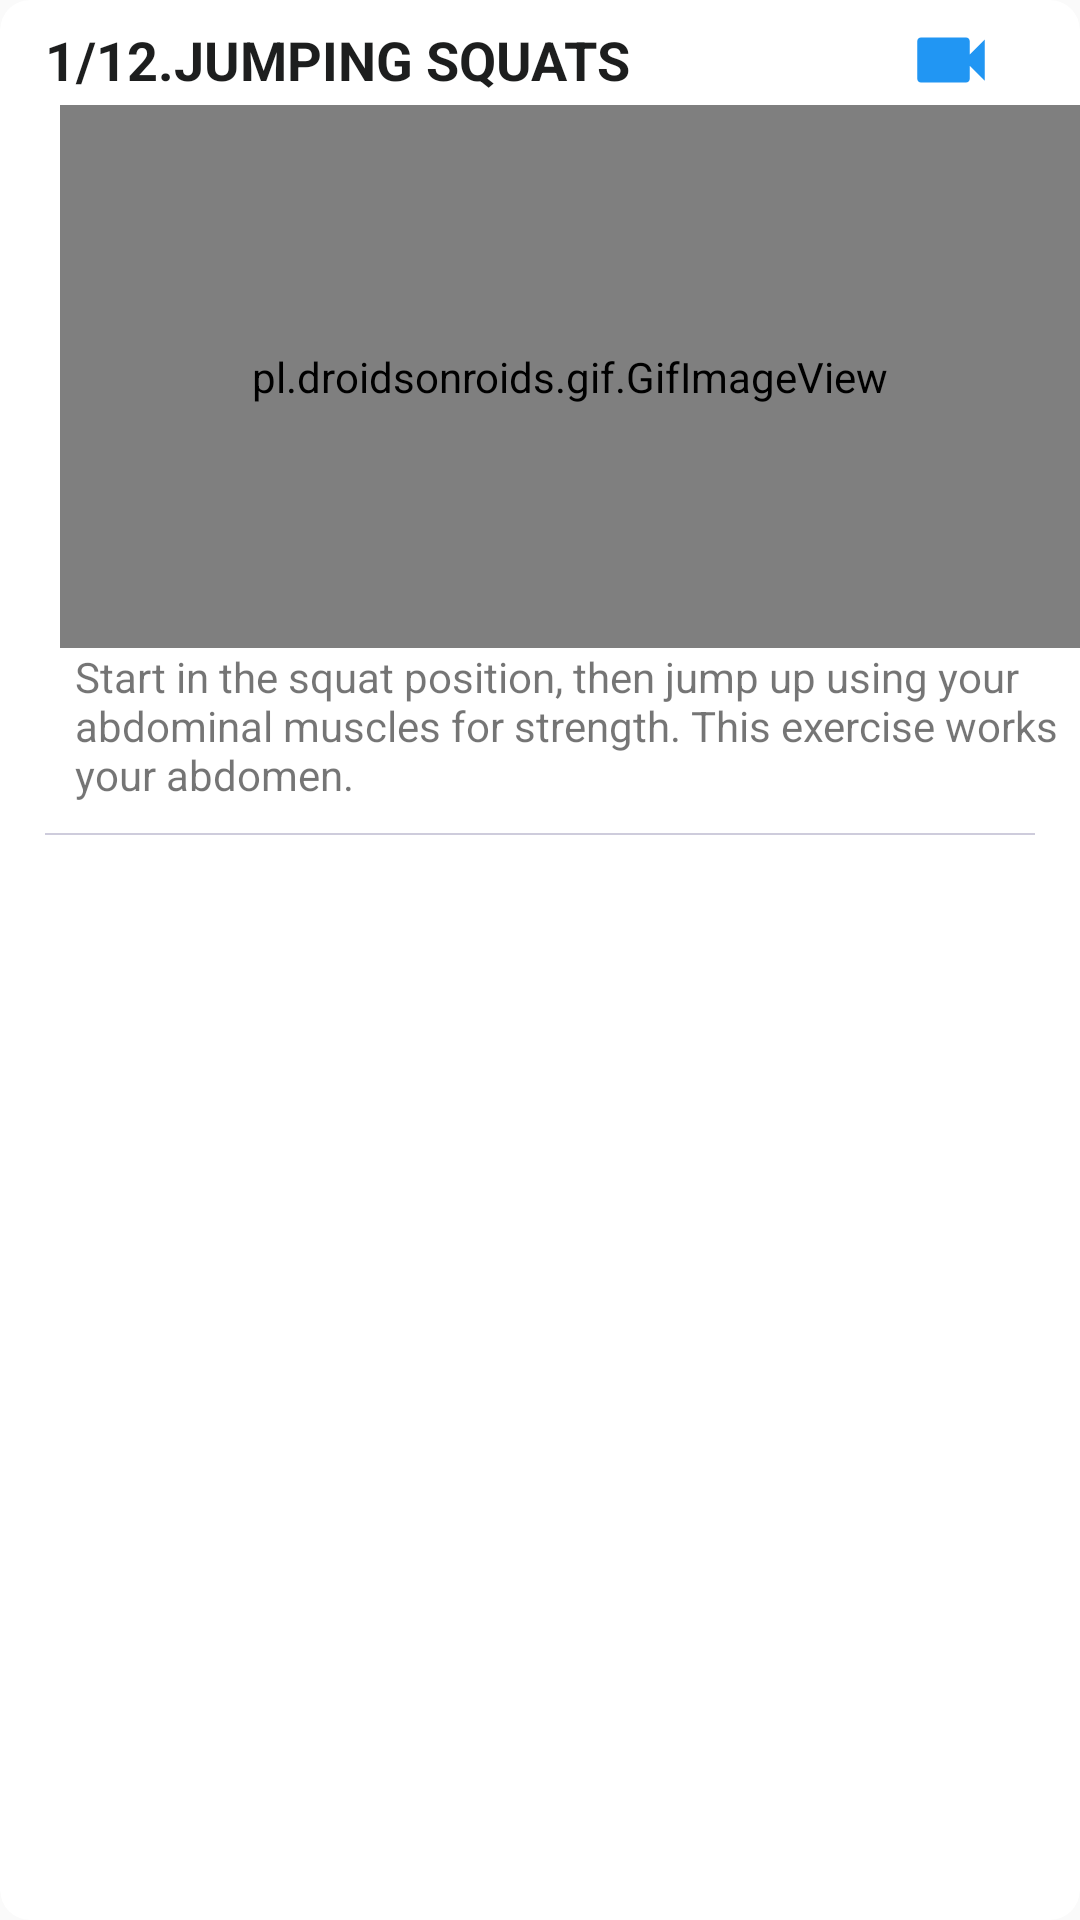

Where icons sit on this 1080px x 1920px app screen, as (x1, y1, x2, y2):
videocam: (917, 37, 985, 83)
